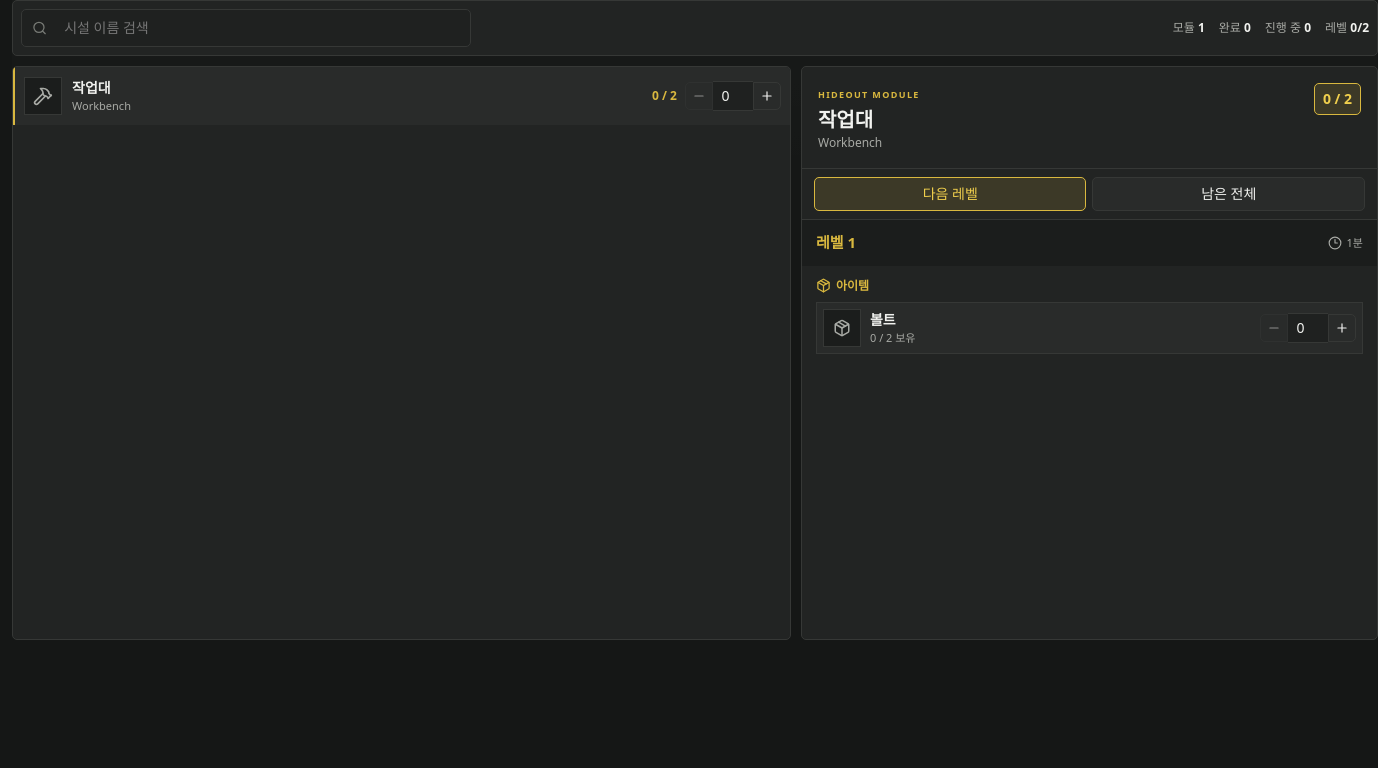
Test case: HideoutPage › edits the shared inventory from an item requirement
Click the button named "볼트 보유량 증가" at {"x": 1342, "y": 328}, box [1328,314,1356,342]
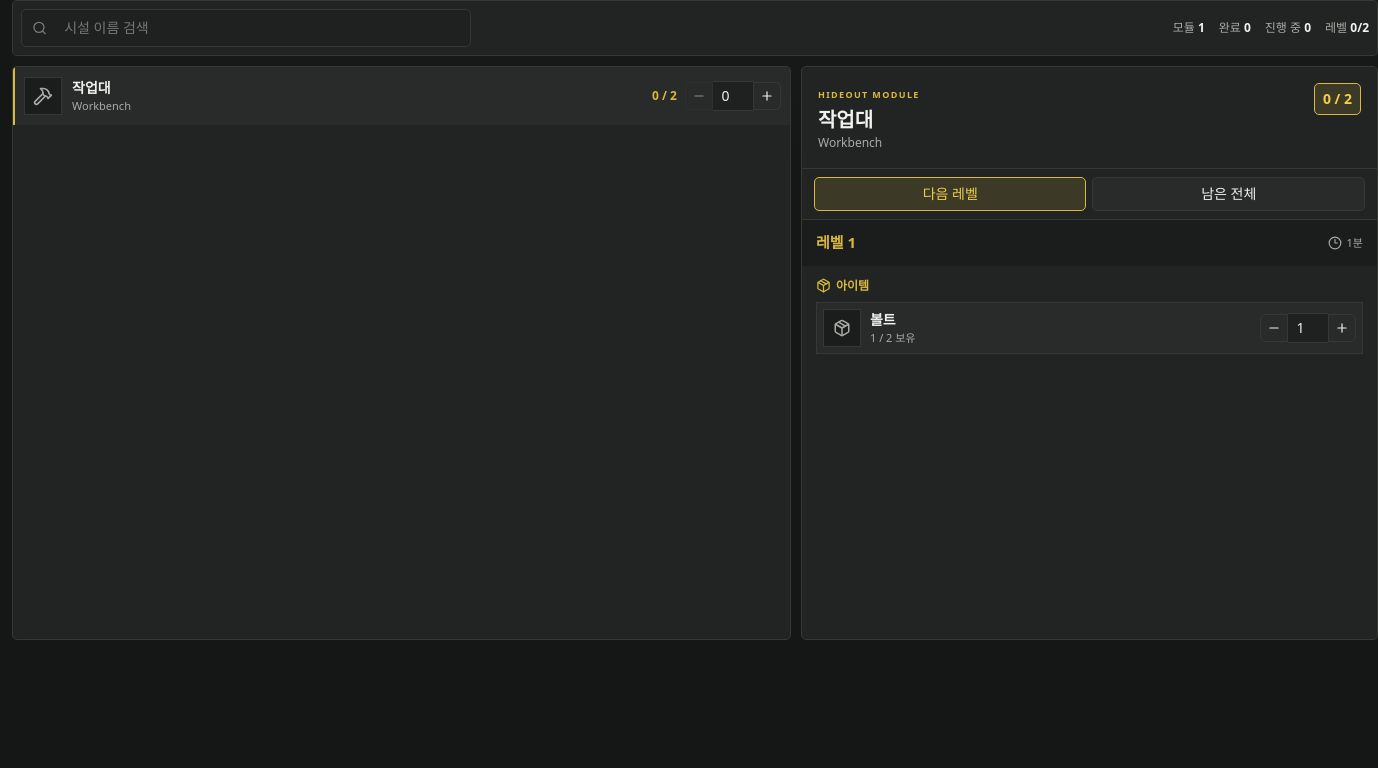
Now the text "1 / 2 보유" is shown, box [870,330,916,345]
